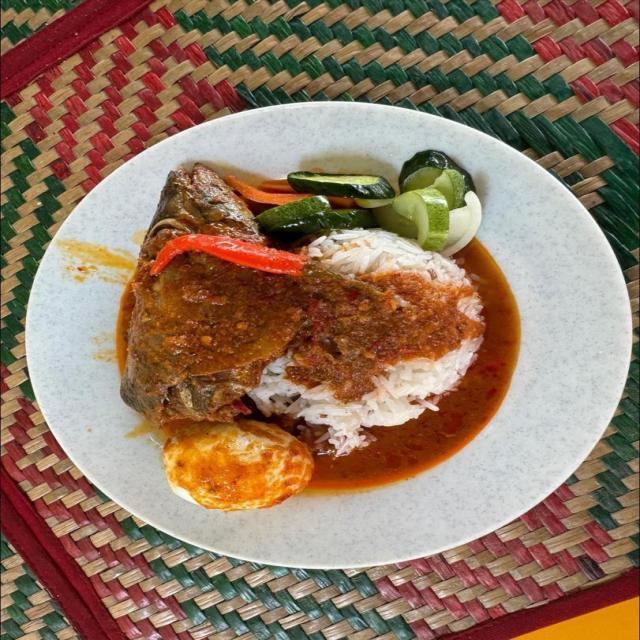Egg: (162, 417, 317, 514)
Fish: (120, 161, 301, 428)
Plate: (27, 102, 629, 567)
Rice: (236, 229, 488, 456)
Vegetables: (143, 145, 489, 279)
